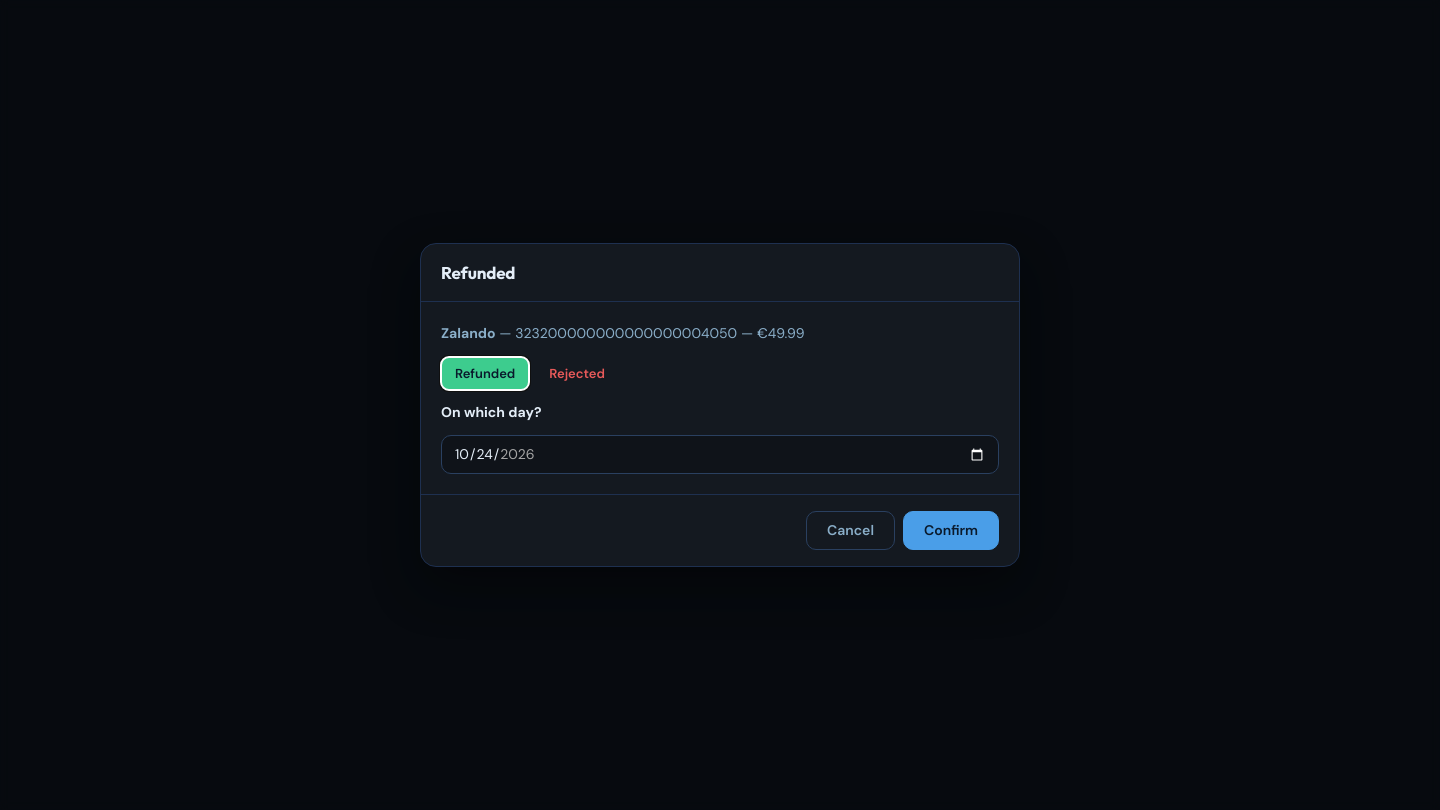
Test: choosing the outcome › asks for a reason only once the refusal is chosen
Check: the field labelled "why was it refused" is not shown
Click the button "Rejected".
click(577, 373)  # box 535,357 -> 619,390
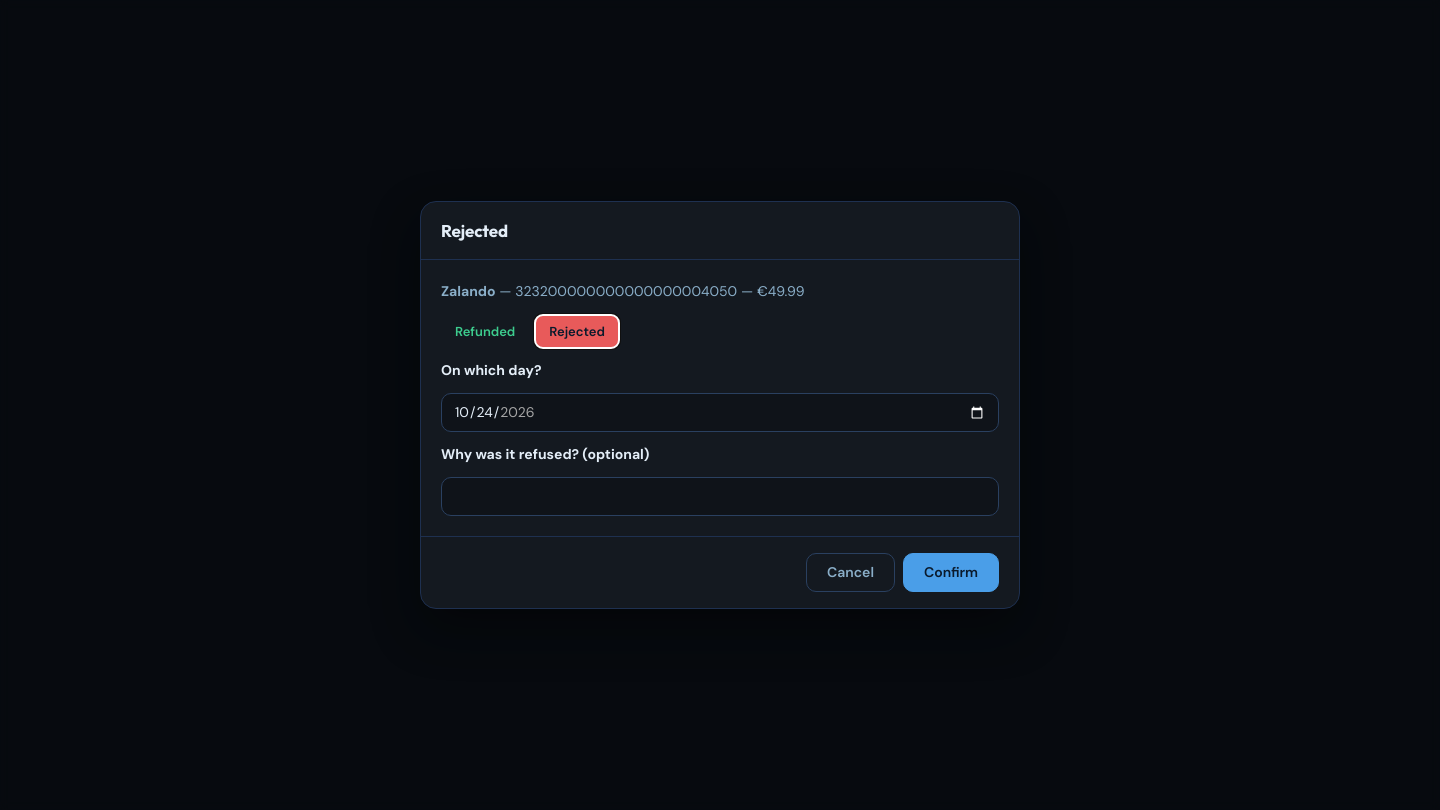
Check: the field labelled "Why was it refused? (optional)" is shown, box 441,477 -> 999,516
